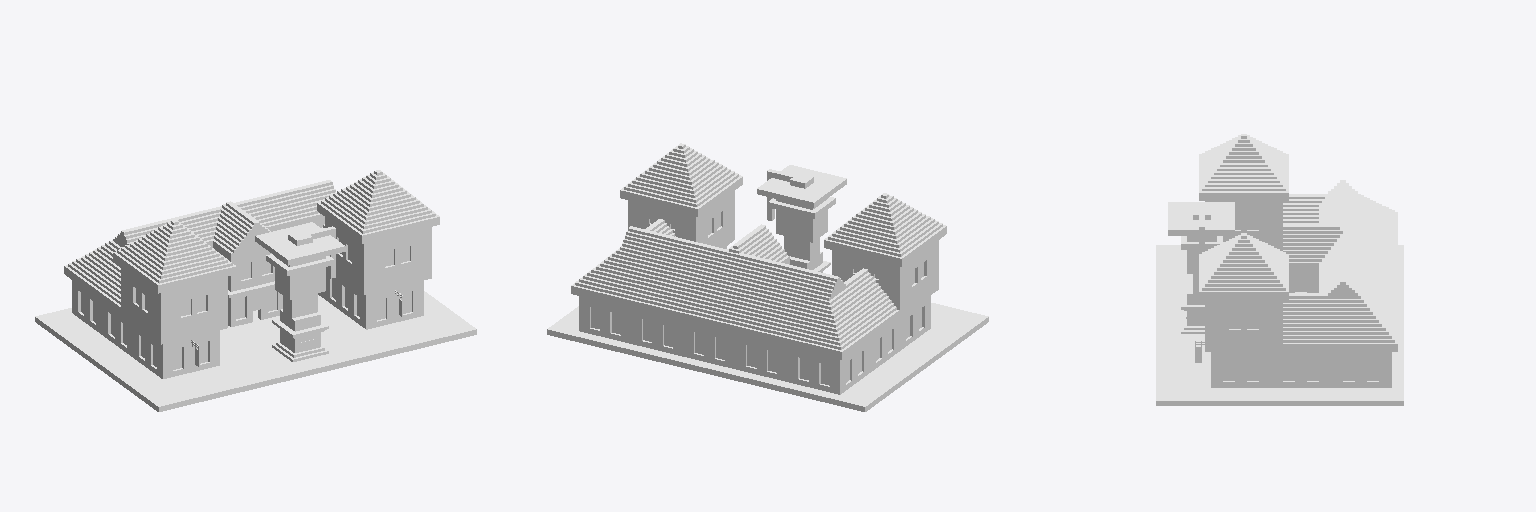
Rendered from Mineways2Skfb.obj.
3 renders of one model, left to right at view 1: azimuth 30°, elevation 25°; view 2: azimuth 150°, elevation 25°; view 3: azimuth 270°, elevation 25°, orthographic.
Visible parts, largest first — view 1: small-school.schematic__-91_0_-113_to_106_255_77; view 2: small-school.schematic__-91_0_-113_to_106_255_77; view 3: small-school.schematic__-91_0_-113_to_106_255_77.
Part boxes in pixels (x1,y1,x2,y2): small-school.schematic__-91_0_-113_to_106_255_77: (35,170,476,411); small-school.schematic__-91_0_-113_to_106_255_77: (547,143,988,411); small-school.schematic__-91_0_-113_to_106_255_77: (1156,134,1403,405).
Size of the model in its own units: 2.18 by 0.9464 by 1.46.